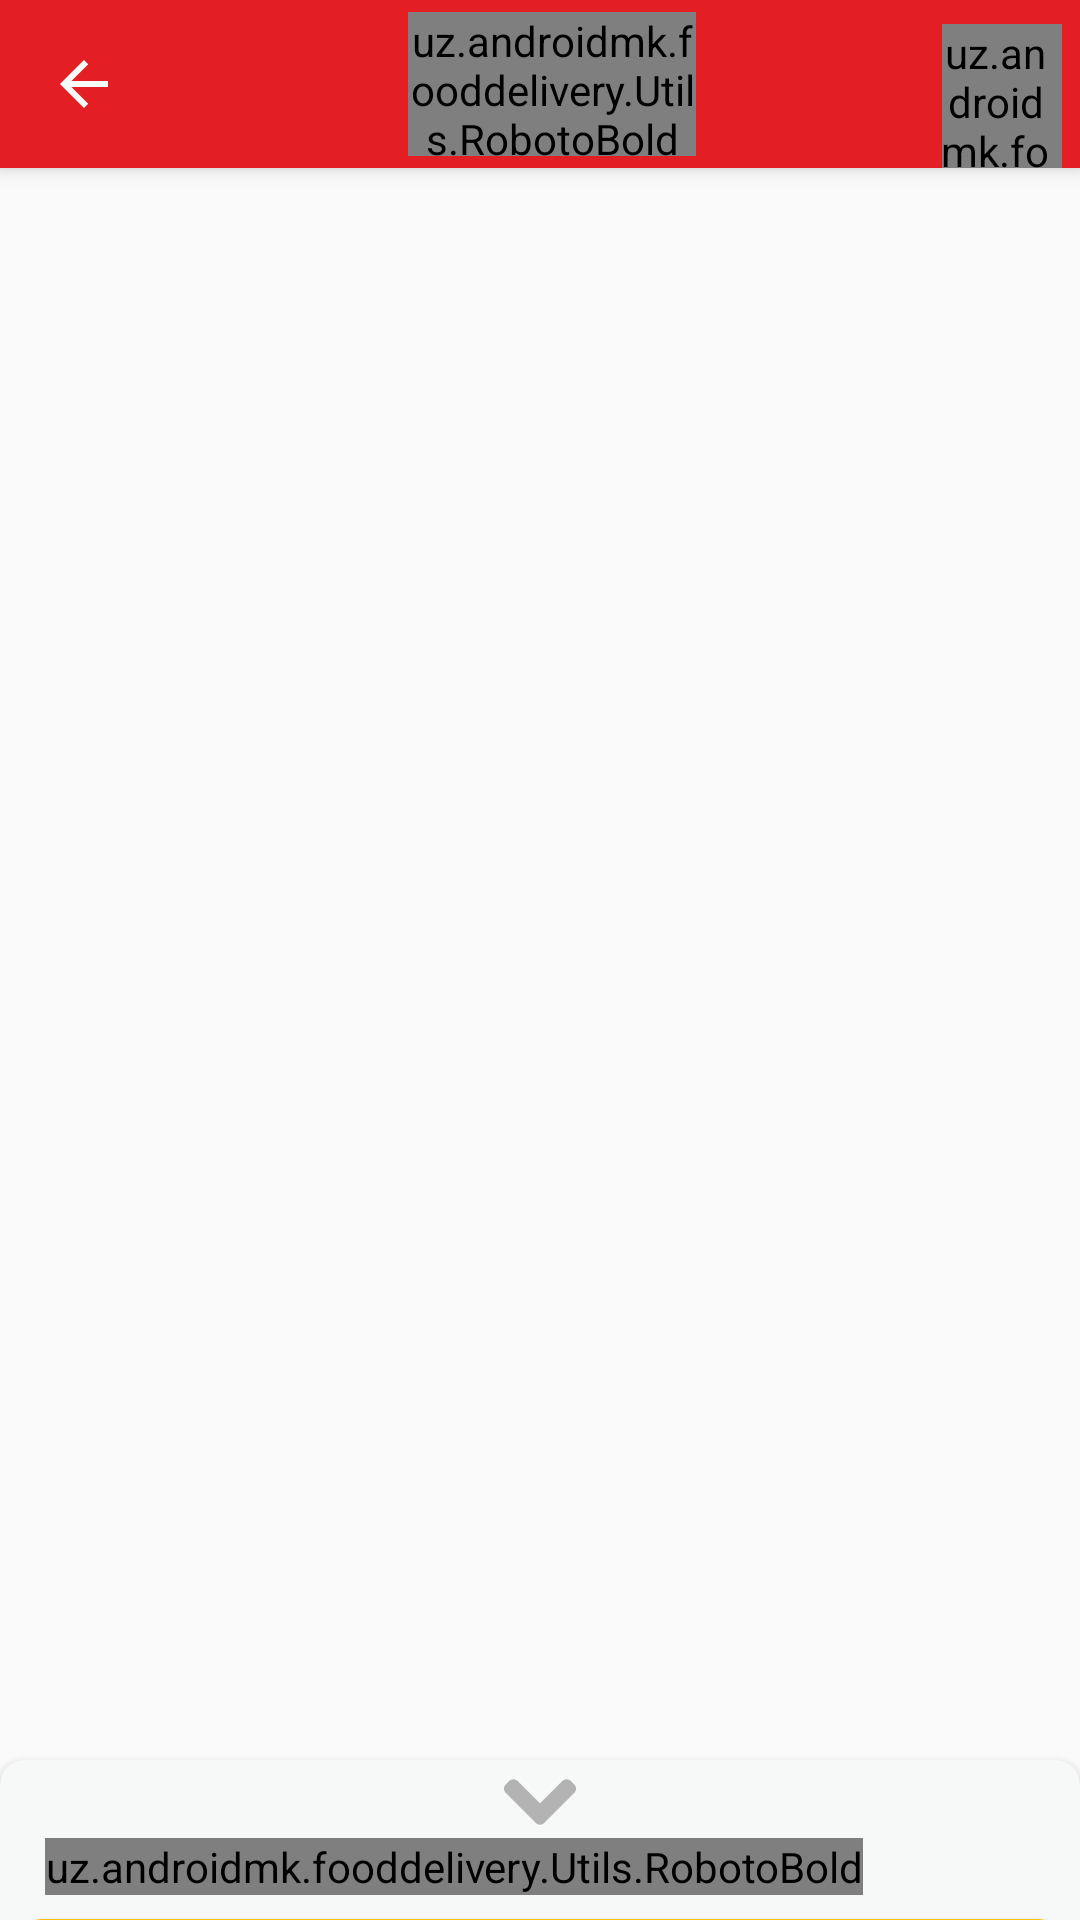

Screen size 1080px×1920px. Icon name, then its center in pixels as (x=x, y=y):
arrow back: (x=84, y=84)
arrow down: (x=540, y=1802)
